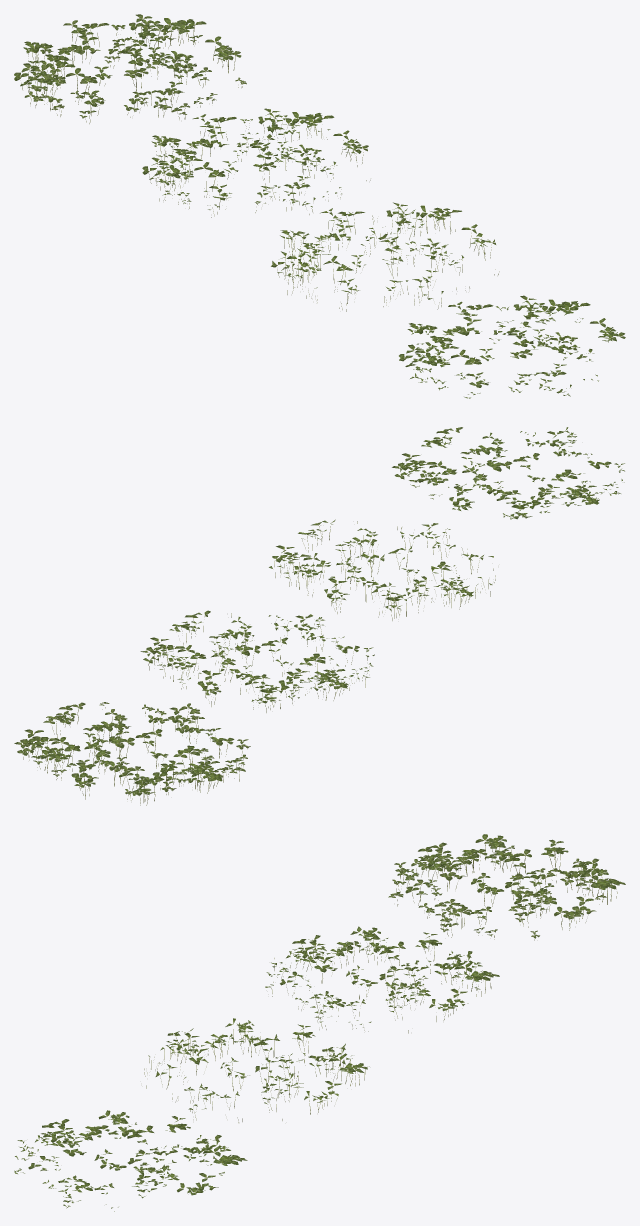
3 views of the same model, one above another, from view 1: azimuth 30°, elevation 25°; view 2: azimuth 150°, elevation 25°; view 3: azimuth 330°, elevation 25° (orthographic).
Visible parts, largest first — view 1: D01, D01_01, D01_03, D01_02; view 2: D01, D01_01, D01_03, D01_02; view 3: D01, D01_01, D01_03, D01_02.
Boxes of the visible parts, x1=… form: D01: x1=14, y1=14, x2=246, y2=123; D01_01: x1=142, y1=108, x2=370, y2=217; D01_03: x1=399, y1=295, x2=625, y2=398; D01_02: x1=271, y1=202, x2=499, y2=311; D01: x1=14, y1=702, x2=250, y2=805; D01_01: x1=140, y1=610, x2=374, y2=712; D01_03: x1=392, y1=427, x2=624, y2=519; D01_02: x1=269, y1=519, x2=495, y2=620; D01: x1=388, y1=834, x2=625, y2=940; D01_01: x1=265, y1=926, x2=499, y2=1033; D01_03: x1=14, y1=1110, x2=247, y2=1211; D01_02: x1=144, y1=1018, x2=369, y2=1122.
Size of the model in its own units: 0.4621 by 0.0563 by 1.95.
Materials: 1 (1 with a texture image).
